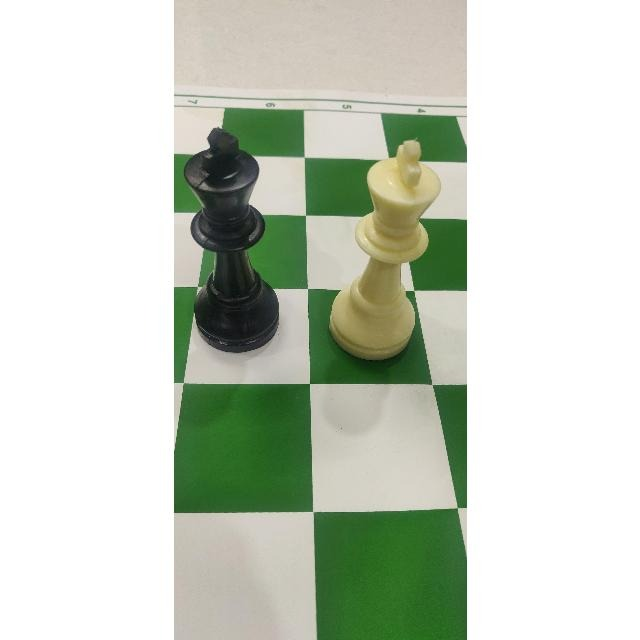black-king: (179, 124, 281, 352)
white-king: (328, 138, 443, 366)
